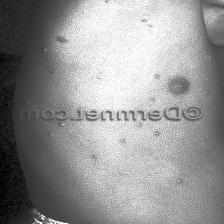Toxin: (36, 122, 68, 140), (35, 49, 54, 79), (136, 18, 160, 28), (50, 34, 70, 44), (148, 70, 164, 82), (166, 178, 184, 186), (143, 96, 156, 103), (88, 154, 102, 160), (114, 138, 125, 144), (152, 130, 162, 136)
